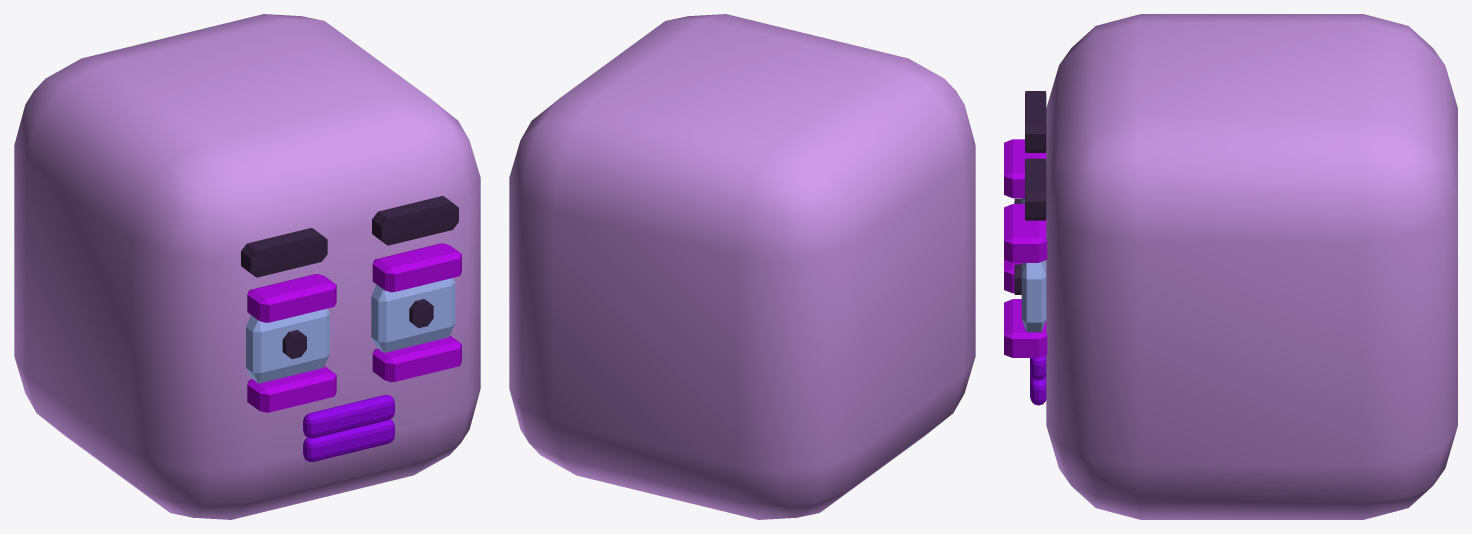
Rendered from Head 03.glb.
3 views of the same model, side by side, from view 1: azimuth 30°, elevation 25°; view 2: azimuth 150°, elevation 25°; view 3: azimuth 270°, elevation 25° (orthographic). The views are drawn at different scales.
Visible parts, largest first — view 1: head; view 2: head; view 3: head.
Boxes of the visible parts, x1,y1,x2,y2 form: head: (14, 14, 480, 519); head: (509, 14, 975, 519); head: (1004, 14, 1457, 519).
Bounding box in the file's own units: 0.6519 × 0.6903 × 0.719.
